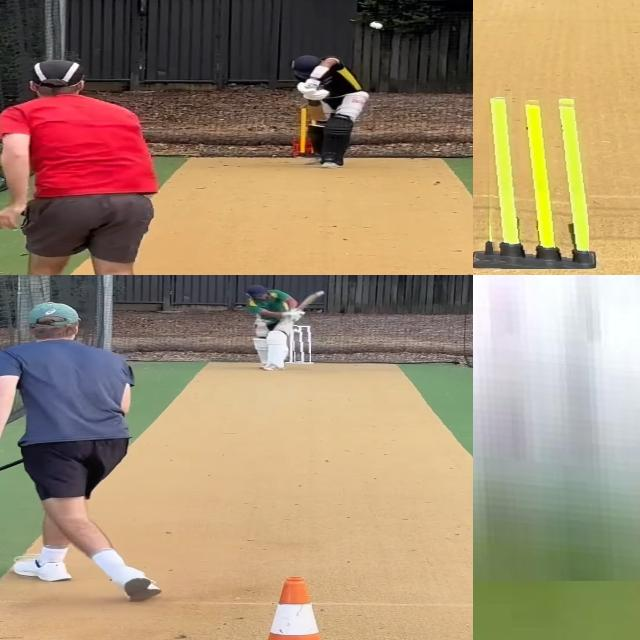Cricket ball: (473, 275, 640, 580), (369, 21, 383, 29), (292, 328, 301, 334)
Stumps: (478, 96, 589, 269), (291, 326, 311, 364)
